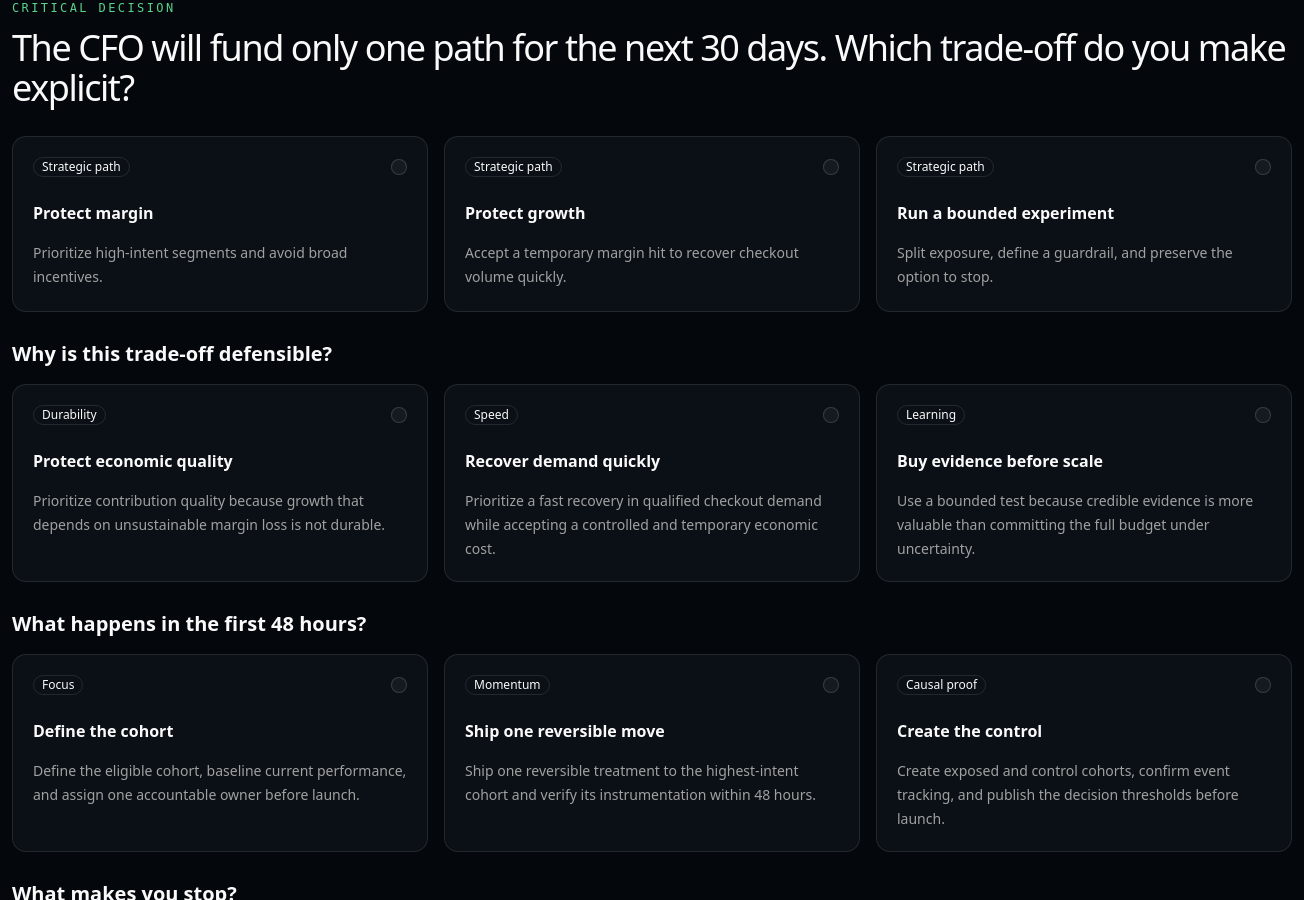
Scenario: DecisionForm › reconciles decision response loss while preserving all selections
The image size is (1304, 900).
Click the 1st radio button named "Protect margin". click: (399, 167)
box: [391,159,407,175]
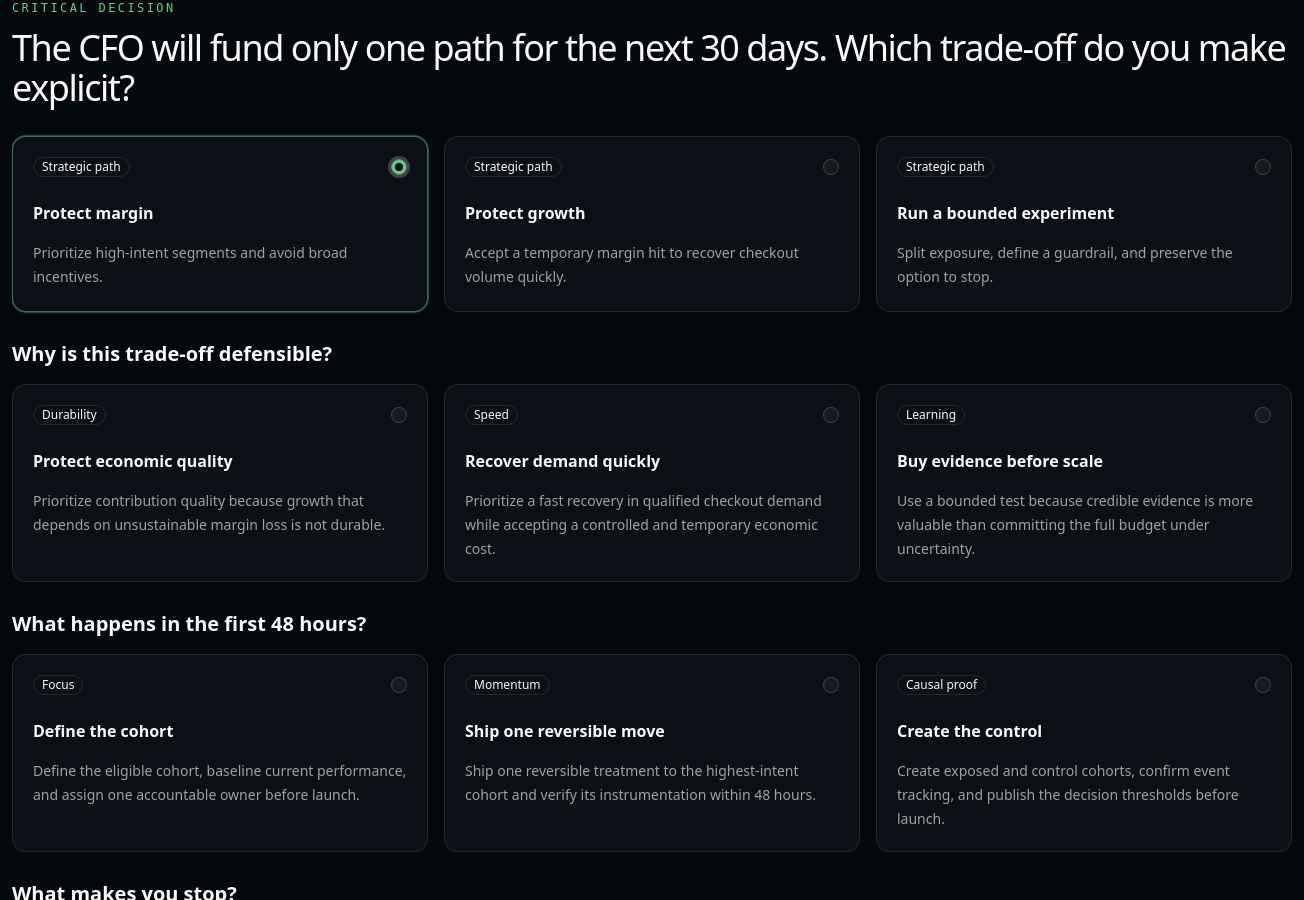
Click the radio button named "Protect economic quality" in the row of "Durability". click: (399, 415)
box: [391,407,407,423]
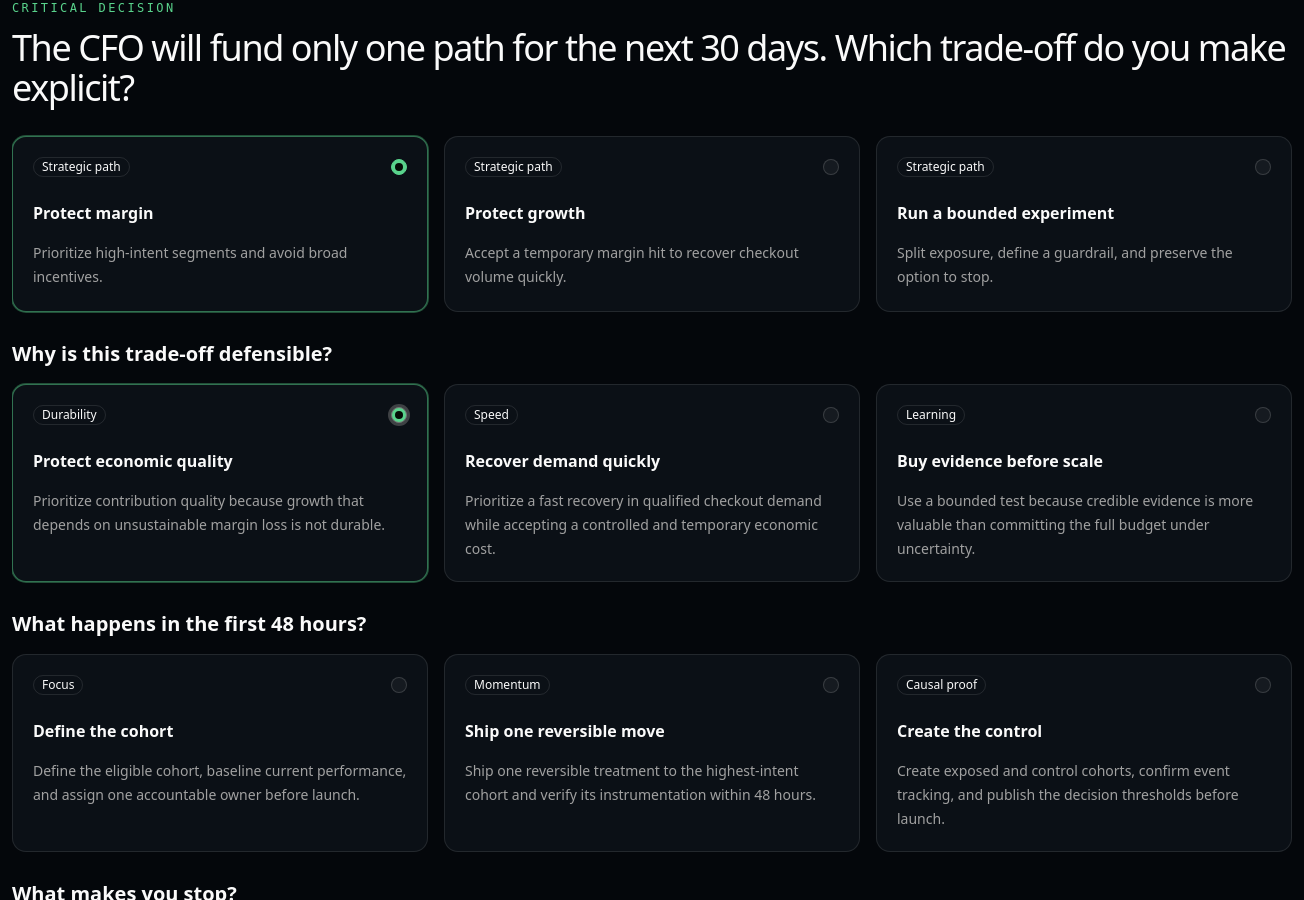
Click the radio button named "Define the cohort" in the row of "Focus". click: (399, 685)
box: [391,677,407,693]
(page scrolled)
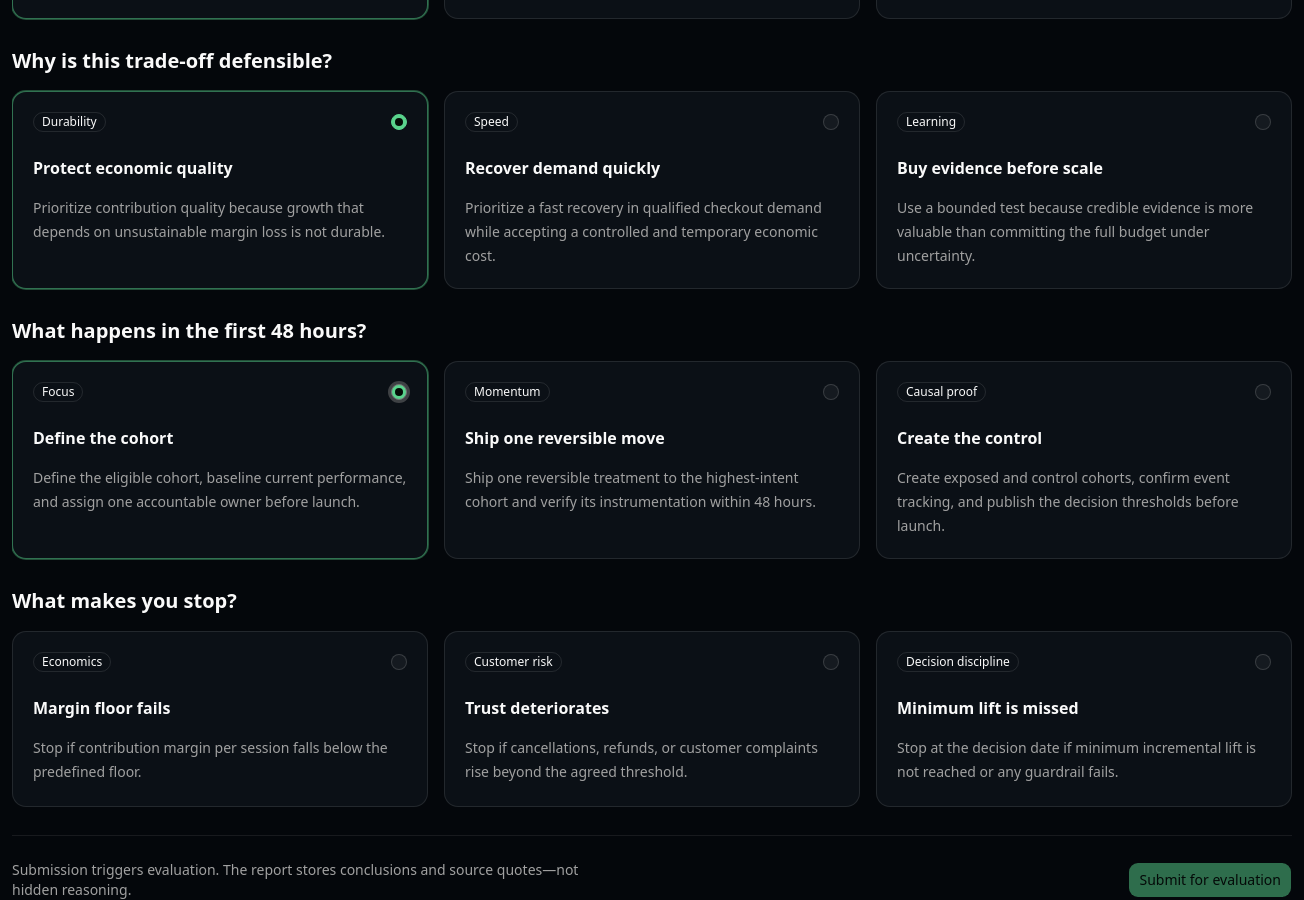
Click the radio button named "Margin floor fails" in the row of "Economics". click: (399, 662)
box: [391,654,407,670]
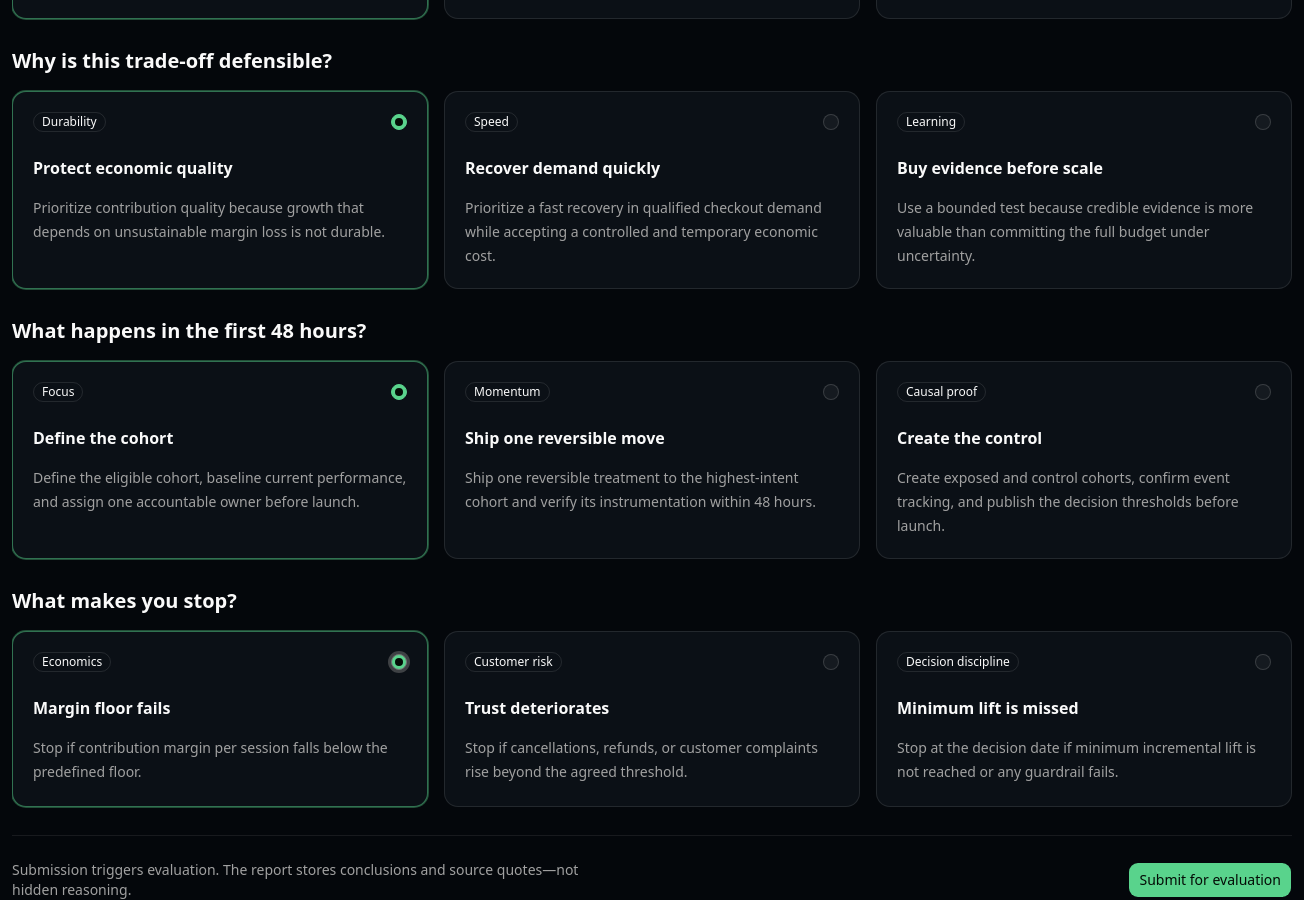
Click the button "Submit for evaluation". click: (1210, 880)
box: [1128,862,1292,898]
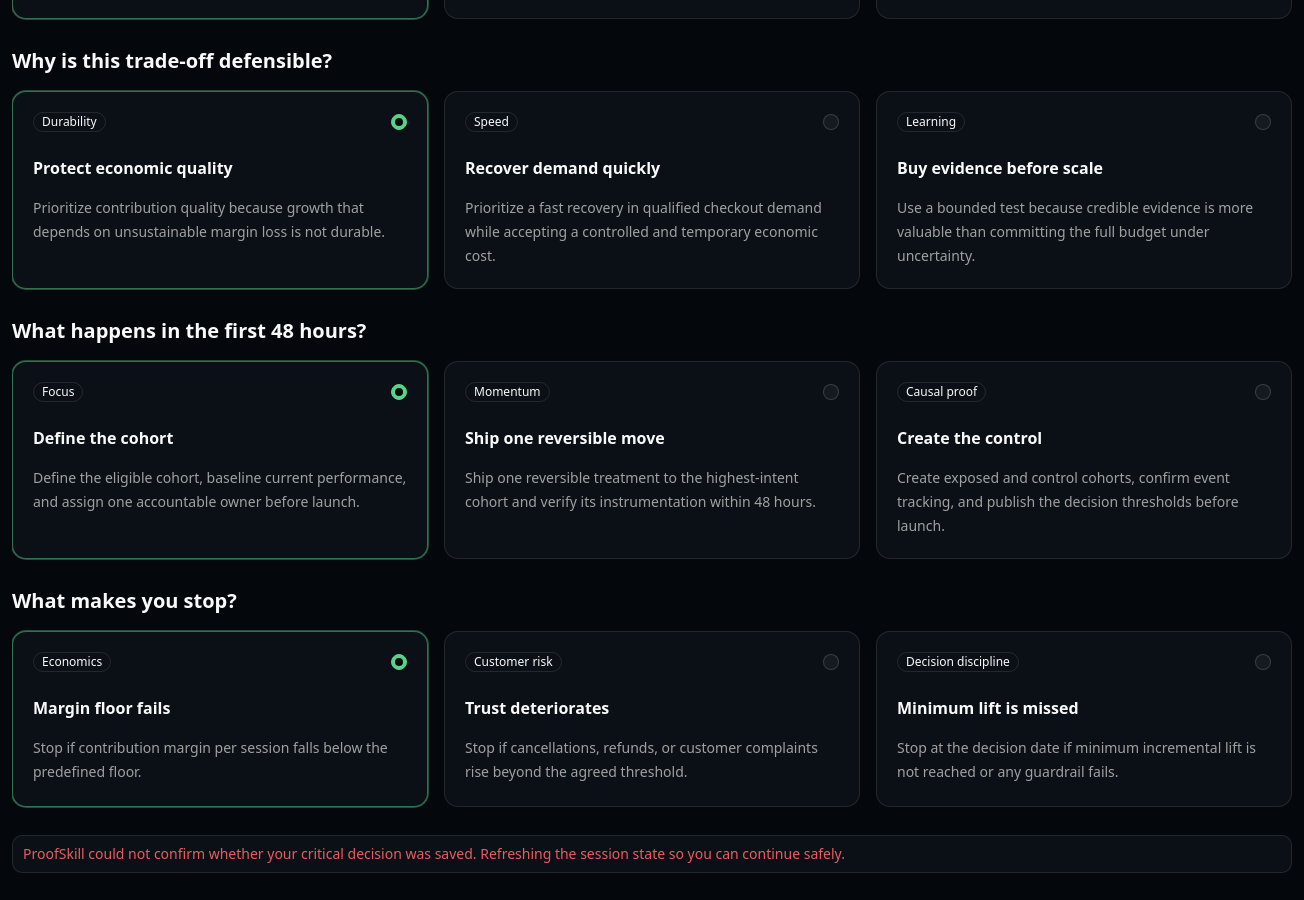
Now the radio button named "Protect economic quality" in the row of "Durability" is checked, box [391,114,407,130]
Now the radio button named "Define the cohort" in the row of "Focus" is checked, box [391,384,407,400]
Now the message shows "ProofSkill could not confirm whether your critical decision was saved. Refreshing the session state so you can continue safely.", box [23,844,845,863]
